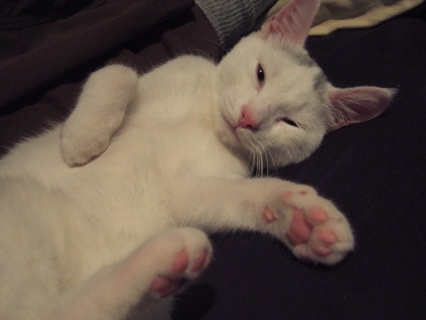Cat: (0, 0, 398, 319)
